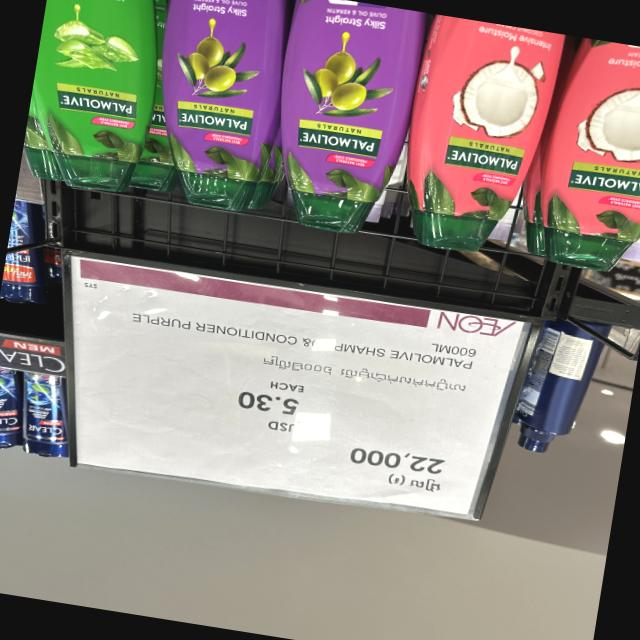1: (259, 350, 476, 403)
661: (344, 437, 456, 478)
769: (228, 384, 309, 422)
Yolov11kh: (400, 472, 454, 505)
